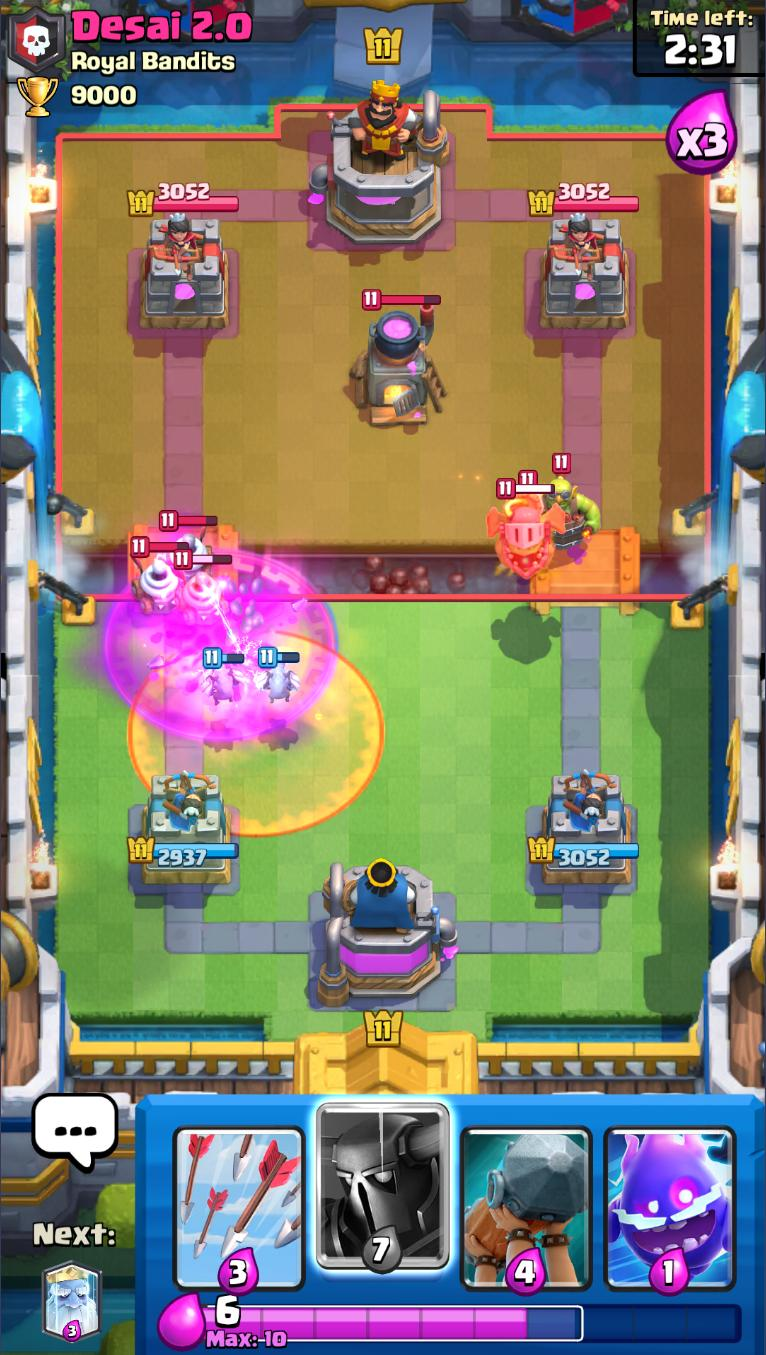ArrowDeck: (166, 1096, 312, 1294)
BattleRamDeck: (454, 1097, 598, 1296)
Demolisher: (531, 453, 603, 551)
ElectroSpiritDeck: (598, 1095, 743, 1296)
Elixir: (202, 1294, 743, 1351)
EnemyTower: (138, 215, 232, 331), (539, 215, 632, 331)
Furnace: (351, 289, 448, 426)
InfernoDragon: (485, 477, 568, 584)
KingTower: (310, 79, 451, 248)
MiniGenerator: (129, 535, 185, 616), (173, 548, 232, 623), (157, 510, 218, 578)
MyKingTower: (316, 856, 459, 1009)
MyMinion: (200, 646, 247, 707), (253, 646, 302, 703)
MyPrincessTower: (125, 771, 242, 889), (528, 770, 641, 889)
MyPrincessTowerHP: (125, 835, 241, 868), (527, 835, 641, 868)
PekkaDeck: (312, 1096, 453, 1298)
Poison: (131, 631, 383, 837)
PrincessTower: (149, 215, 203, 277), (550, 216, 603, 274)
Rage: (106, 552, 335, 738)
RoyaleGhostNext: (41, 1264, 104, 1342)
TowerPrincessHP: (127, 182, 240, 217), (528, 182, 641, 216)
